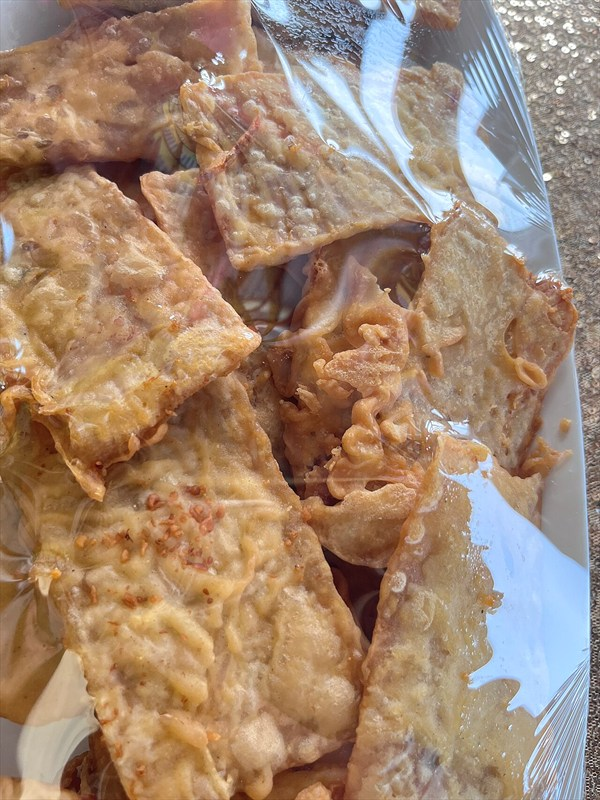Tempe Goreng: (31, 45, 516, 728)
